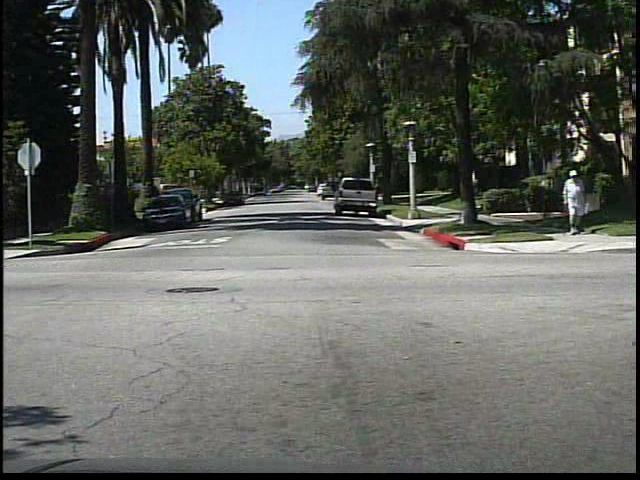person: (559, 166, 589, 238)
